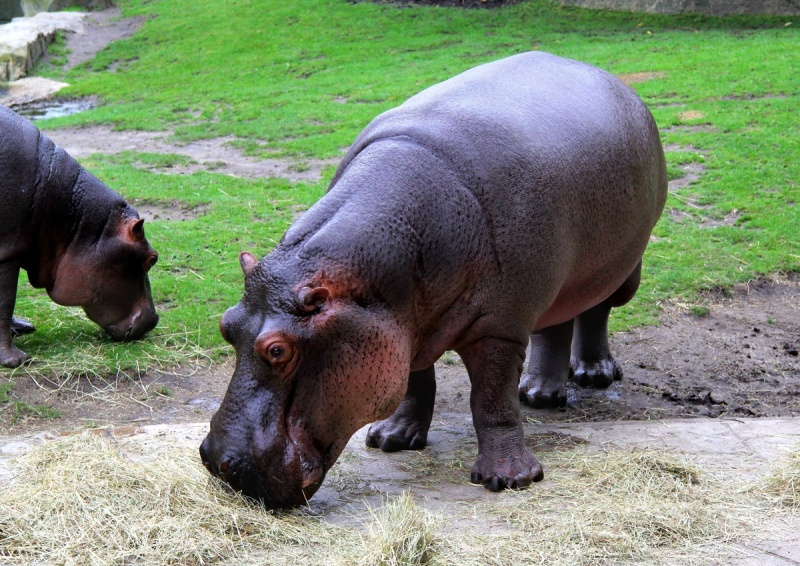hipopotamo: (197, 49, 668, 515), (0, 102, 164, 366)
